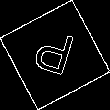P_S: (30, 25, 80, 85)
